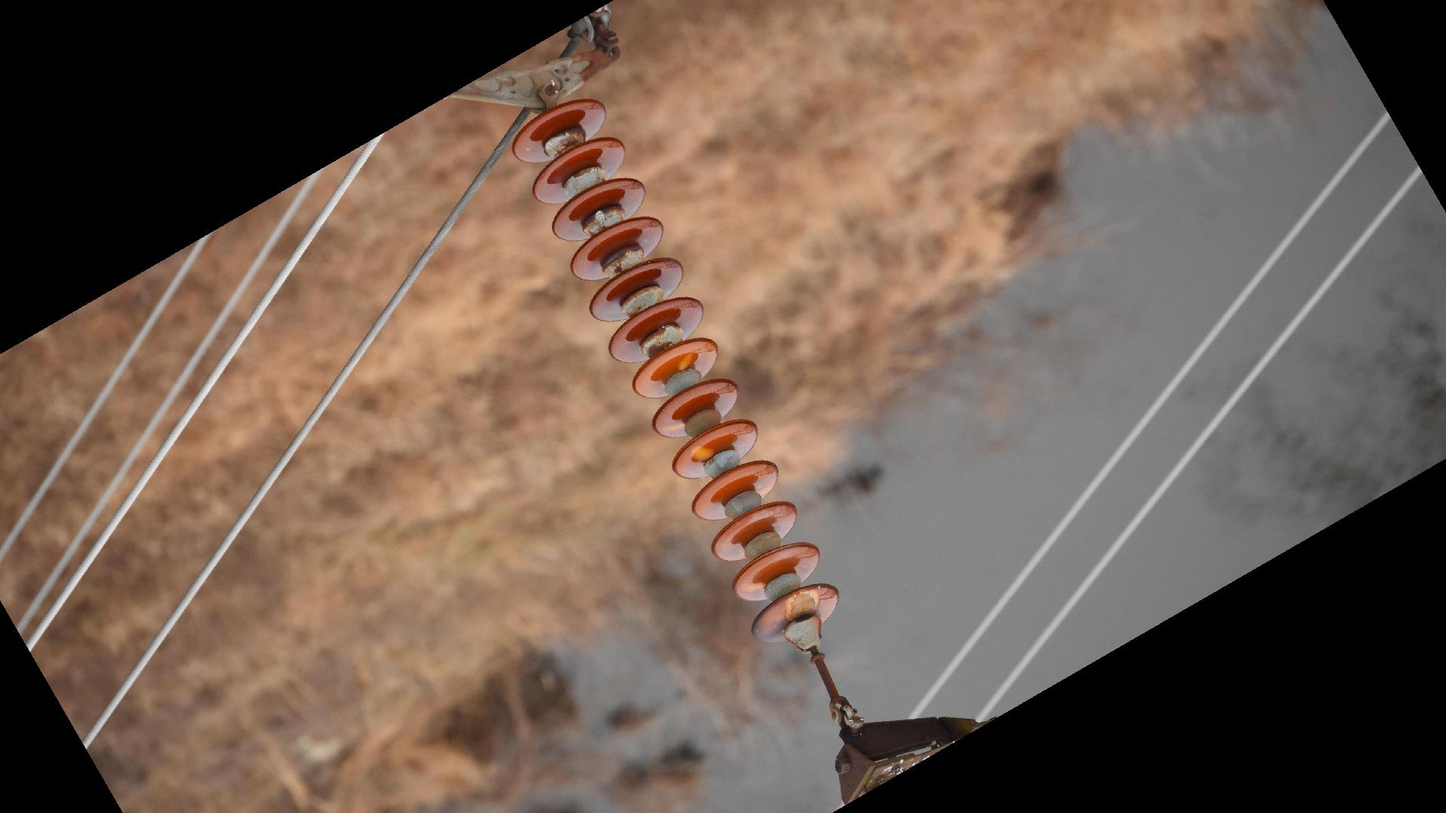insulator: (503, 94, 845, 650)
insulator_flashover: (784, 586, 819, 623), (687, 443, 715, 464), (737, 579, 767, 597), (676, 351, 695, 373)
